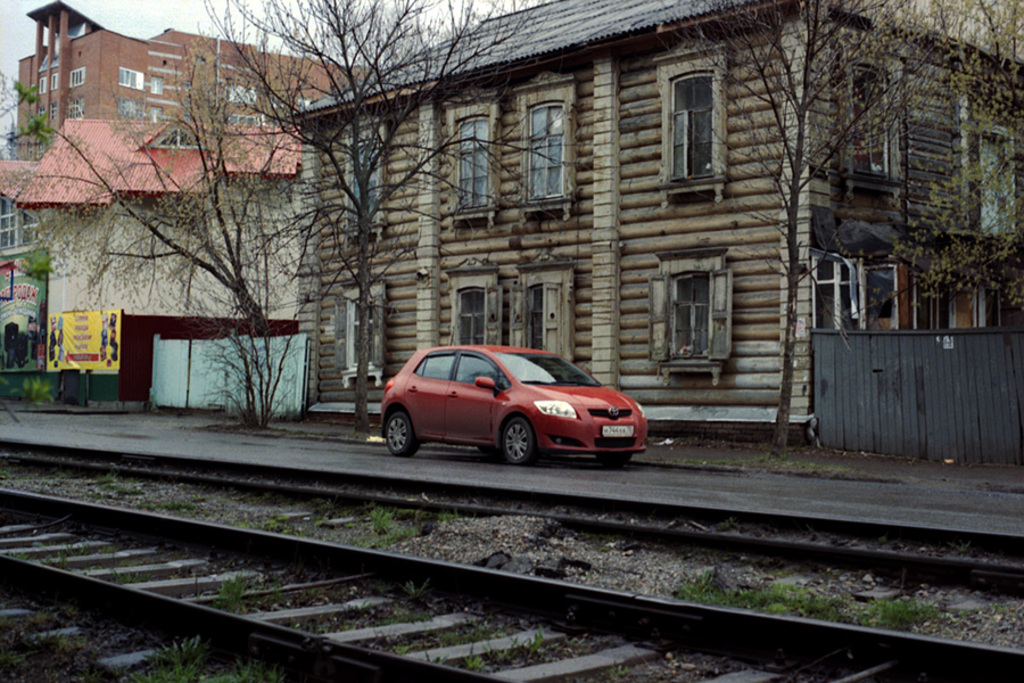Car: (381, 331, 648, 465)
